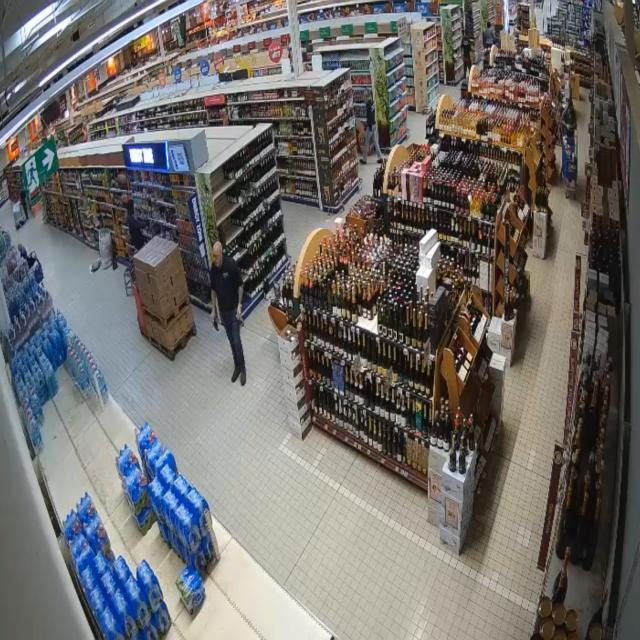article: (212, 319, 220, 332), (238, 317, 244, 327)
hands: (237, 304, 242, 321), (211, 307, 217, 321)
person: (210, 242, 246, 385), (360, 92, 382, 164), (122, 194, 148, 251), (560, 96, 576, 136)
